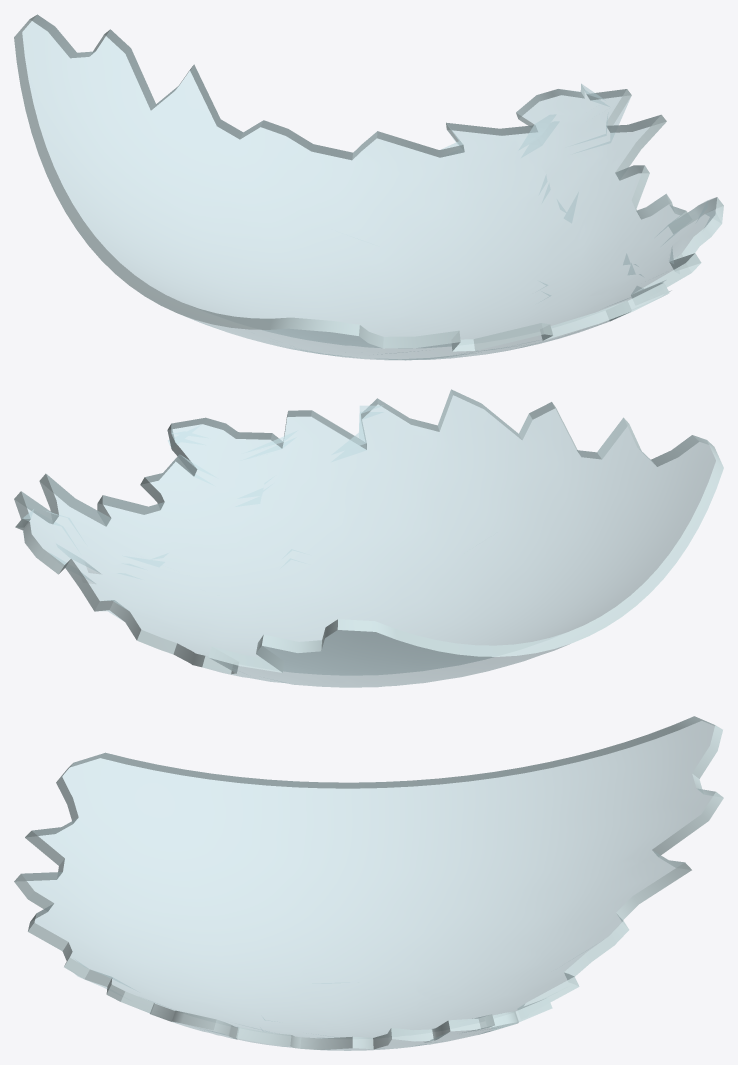
The model's file is SM_DomeShard_2.fbx.
The picture shows the model from 3 angles, top to bottom: view 1: azimuth 30°, elevation 25°; view 2: azimuth 150°, elevation 25°; view 3: azimuth 270°, elevation 25°; orthographic projection. The views are drawn at different scales.
Parts seen in each view (by area): view 1: SM_DomeShard_2; view 2: SM_DomeShard_2; view 3: SM_DomeShard_2.
Boxes of the visible parts, bbox=[...] form: SM_DomeShard_2: bbox=[14, 14, 723, 360]; SM_DomeShard_2: bbox=[14, 389, 723, 687]; SM_DomeShard_2: bbox=[14, 716, 723, 1050].
Size of the model in its own units: 1.08 by 0.3654 by 1.23.
